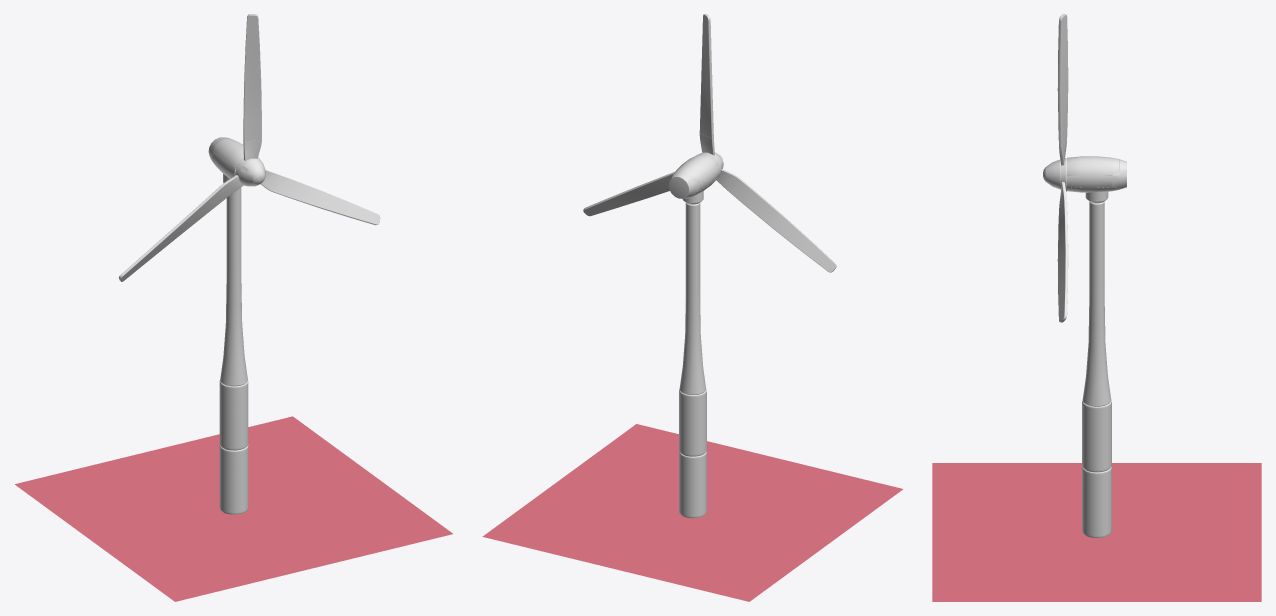
File: windrad_pink.fbx
3 views of the same model, side by side, from view 1: azimuth 30°, elevation 25°; view 2: azimuth 150°, elevation 25°; view 3: azimuth 270°, elevation 25° (orthographic). The views are drawn at different scales.
Visible parts, largest first — view 1: two_two, Windrad_01:cylinder84, Windrad_01:polymsh_extracted67, Windrad_01:polymsh_detached134, polymsh_detached134, Windrad_01:polymsh_extracted72, Windrad_01:polymsh_extracted71, Windrad_01:polymsh_extracted65; view 2: two_two, Windrad_01:cylinder84, Windrad_01:polymsh_extracted71, polymsh_detached134, Windrad_01:polymsh_detached134, Windrad_01:polymsh_extracted67, Windrad_01:polymsh_extracted72, Windrad_01:polymsh_extracted65, Windrad_01:polymsh_detached131; view 3: two_two, Windrad_01:cylinder84, Windrad_01:polymsh_detached134, polymsh_detached134, Windrad_01:polymsh_extracted67, Windrad_01:polymsh_extracted65, Windrad_01:polymsh_extracted72, Windrad_01:polymsh_detached132.
Part boxes in pixels (left/top/right/bottom): two_two: left=15, top=416, right=452, bottom=601; Windrad_01:cylinder84: left=220, top=187, right=247, bottom=386; Windrad_01:polymsh_extracted67: left=243, top=14, right=261, bottom=141; Windrad_01:polymsh_detached134: left=219, top=380, right=248, bottom=450; polymsh_detached134: left=219, top=444, right=248, bottom=514; Windrad_01:polymsh_extracted72: left=273, top=174, right=380, bottom=225; Windrad_01:polymsh_extracted71: left=119, top=186, right=226, bottom=281; Windrad_01:polymsh_extracted65: left=213, top=137, right=258, bottom=178; two_two: left=482, top=424, right=903, bottom=601; Windrad_01:cylinder84: left=679, top=203, right=706, bottom=394; Windrad_01:polymsh_extracted71: left=729, top=178, right=836, bottom=272; polymsh_detached134: left=679, top=451, right=706, bottom=518; Windrad_01:polymsh_detached134: left=679, top=389, right=706, bottom=456; Windrad_01:polymsh_extracted67: left=699, top=14, right=713, bottom=138; Windrad_01:polymsh_extracted72: left=583, top=172, right=674, bottom=216; Windrad_01:polymsh_extracted65: left=674, top=153, right=719, bottom=197; Windrad_01:polymsh_detached131: left=668, top=172, right=699, bottom=198; two_two: left=932, top=463, right=1261, bottom=601; Windrad_01:cylinder84: left=1082, top=201, right=1111, bottom=406; Windrad_01:polymsh_detached134: left=1082, top=400, right=1111, bottom=472; polymsh_detached134: left=1082, top=466, right=1111, bottom=538; Windrad_01:polymsh_extracted67: left=1057, top=14, right=1068, bottom=147; Windrad_01:polymsh_extracted65: left=1067, top=156, right=1119, bottom=192; Windrad_01:polymsh_extracted72: left=1057, top=199, right=1068, bottom=322; Windrad_01:polymsh_detached132: left=1067, top=175, right=1111, bottom=187.
Size of the model in its own units: 2 by 3.47 by 2.
